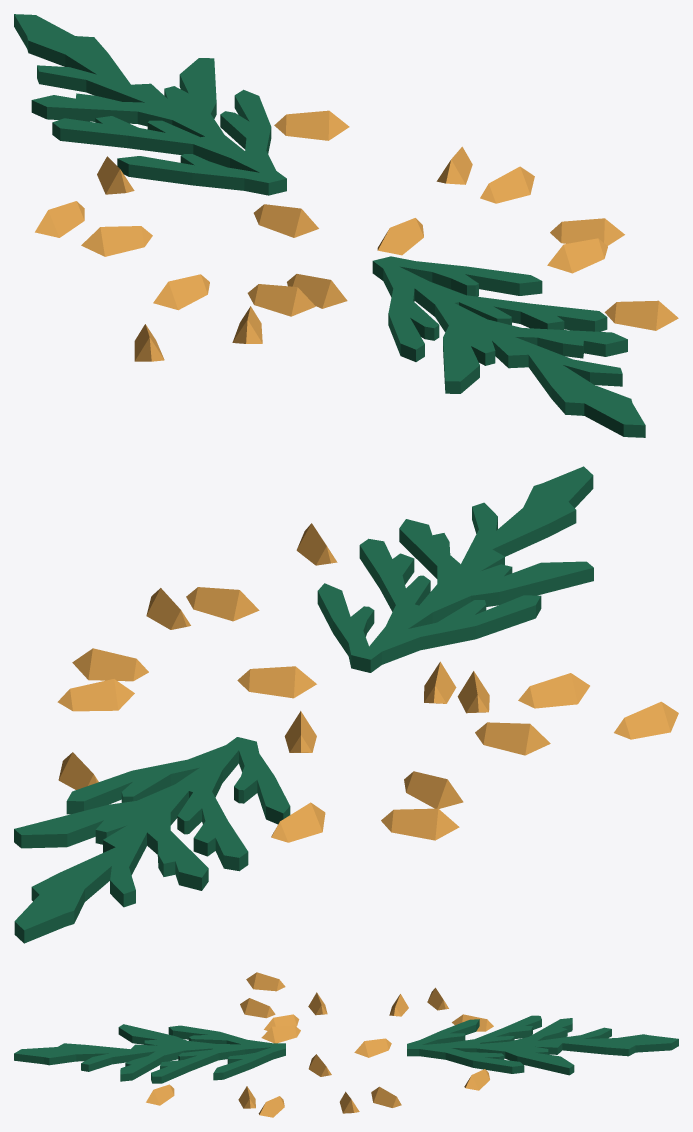
File: cedar-cultivation.glb
The picture shows the model from 3 angles, top to bottom: view 1: azimuth 30°, elevation 25°; view 2: azimuth 150°, elevation 25°; view 3: azimuth 270°, elevation 25°; orthographic projection. The views are drawn at different scales.
Visible parts, largest first — view 1: Plane.001, Plane, Cylinder.012, Cylinder.009, Cylinder.011, Cylinder.007, Cylinder.016, Cylinder.005, Cylinder.017, Cylinder.006, Cylinder.008, Cylinder.003 (+6 smaller); view 2: Plane, Plane.001, Cylinder.004, Cylinder.010, Cylinder.013, Cylinder.008, Cylinder.006, Cylinder.017, Cylinder.002, Cylinder.014, Cylinder.011, Cylinder.015 (+6 smaller); view 3: Plane.001, Plane, Cylinder.003, Cylinder.014, Cylinder.016, Cylinder.002, Cylinder.013, Cylinder.009, Cylinder.005, Cylinder.012, Cylinder.007, Cylinder.015 (+6 smaller).
Part boxes in pixels (x1=…): Plane.001: x1=14, y1=14, x2=286, y2=195; Plane: x1=372, y1=256, x2=645, y2=437; Cylinder.012: x1=274, y1=110, x2=349, y2=140; Cylinder.009: x1=604, y1=300, x2=678, y2=330; Cylinder.011: x1=81, y1=226, x2=152, y2=256; Cylinder.007: x1=247, y1=284, x2=315, y2=316; Cylinder.016: x1=253, y1=204, x2=318, y2=237; Cylinder.005: x1=550, y1=218, x2=624, y2=245; Cylinder.017: x1=547, y1=238, x2=607, y2=273; Cylinder.006: x1=153, y1=274, x2=209, y2=310; Cylinder.008: x1=480, y1=166, x2=534, y2=203; Cylinder.003: x1=287, y1=274, x2=347, y2=308; Plane: x1=317, y1=466, x2=593, y2=672; Plane.001: x1=14, y1=737, x2=290, y2=943; Cylinder.004: x1=237, y1=666, x2=316, y2=698; Cylinder.010: x1=381, y1=808, x2=459, y2=840; Cylinder.013: x1=57, y1=679, x2=134, y2=711; Cylinder.008: x1=72, y1=648, x2=148, y2=681; Cylinder.006: x1=475, y1=722, x2=550, y2=755; Cylinder.017: x1=186, y1=587, x2=259, y2=621; Cylinder.002: x1=518, y1=673, x2=589, y2=708; Cylinder.014: x1=614, y1=701, x2=678, y2=739; Cylinder.011: x1=404, y1=771, x2=463, y2=808; Cylinder.015: x1=271, y1=802, x2=325, y2=842; Plane.001: x1=407, y1=1015, x2=678, y2=1075; Plane: x1=14, y1=1024, x2=285, y2=1083; Cylinder.003: x1=261, y1=1025, x2=300, y2=1043; Cylinder.014: x1=246, y1=972, x2=285, y2=991; Cylinder.016: x1=354, y1=1038, x2=391, y2=1057; Cylinder.002: x1=240, y1=998, x2=275, y2=1018; Cylinder.013: x1=371, y1=1086, x2=401, y2=1107; Cylinder.009: x1=146, y1=1084, x2=174, y2=1105; Cylinder.005: x1=258, y1=1096, x2=284, y2=1117; Cylinder.012: x1=464, y1=1069, x2=489, y2=1090; Cylinder.007: x1=264, y1=1014, x2=299, y2=1030; Cylinder.015: x1=452, y1=1014, x2=493, y2=1031.
Size of the model in its own units: 5.09 by 0.2369 by 10.42.
